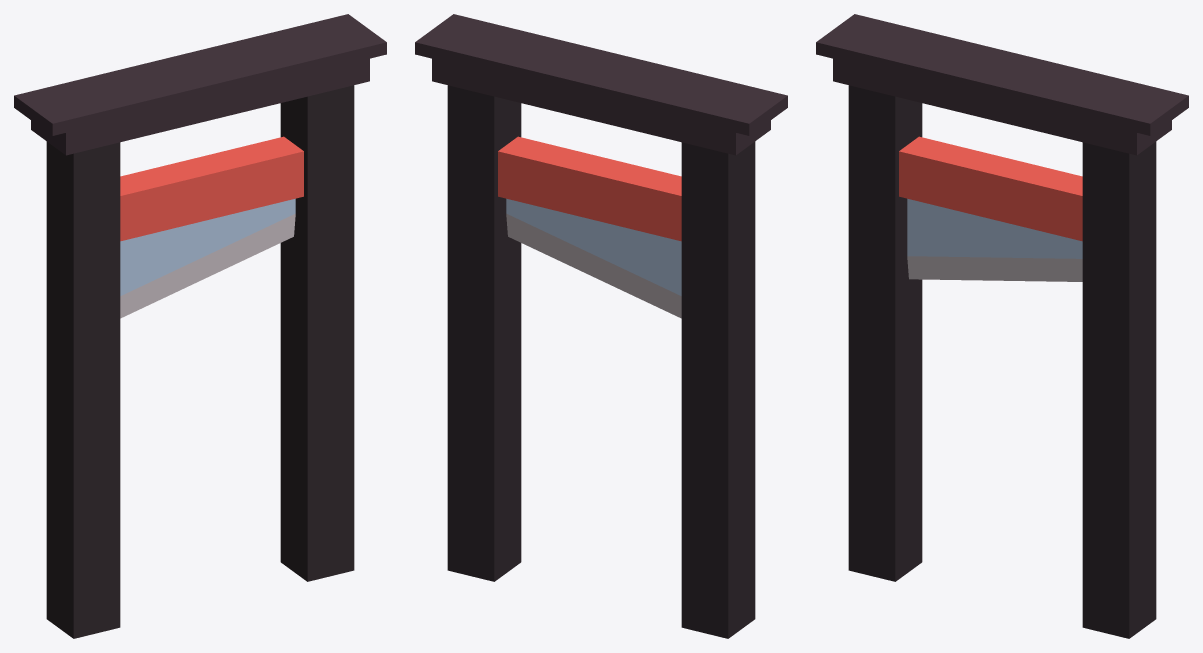
File: Guillotine.fbx
3 views of the same model, side by side, from view 1: azimuth 30°, elevation 25°; view 2: azimuth 150°, elevation 25°; view 3: azimuth 330°, elevation 25° (orthographic).
Parts seen in each view (by area): view 1: Guillotine_Base, Guillotine_Blade; view 2: Guillotine_Base, Guillotine_Blade; view 3: Guillotine_Base, Guillotine_Blade.
Part boxes in pixels (left/top/right/bottom): Guillotine_Base: left=14, top=14, right=386, bottom=638; Guillotine_Blade: left=120, top=136, right=303, bottom=318; Guillotine_Base: left=415, top=14, right=787, bottom=638; Guillotine_Blade: left=498, top=136, right=681, bottom=318; Guillotine_Base: left=816, top=14, right=1188, bottom=638; Guillotine_Blade: left=899, top=136, right=1082, bottom=281.
Bounding box in the file's own units: 286 × 430 × 57.2.
